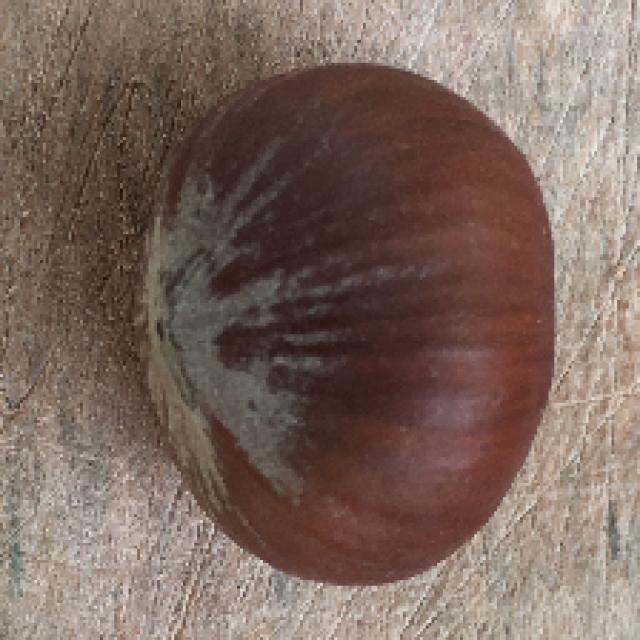qualityHazelnut: (138, 59, 558, 590)
